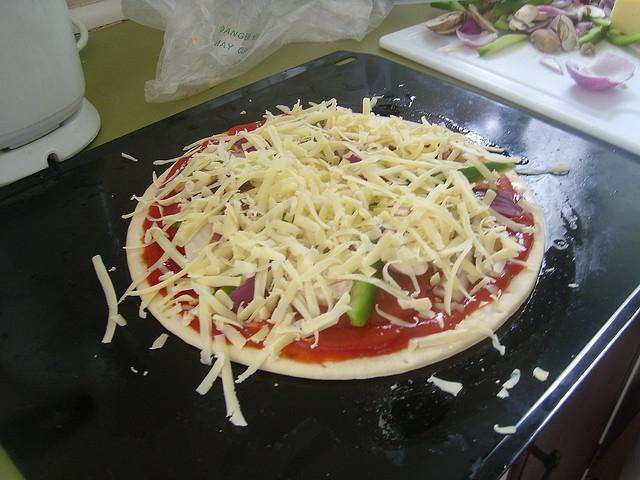bell pepper: (346, 240, 385, 327), (431, 161, 517, 189), (476, 34, 529, 56), (578, 24, 608, 50), (489, 0, 528, 18), (606, 28, 638, 46), (218, 273, 242, 296), (494, 12, 511, 30), (586, 16, 611, 27), (431, 2, 452, 10), (173, 221, 182, 230)
mushroom: (468, 4, 500, 36), (529, 28, 561, 52), (424, 11, 464, 30), (558, 15, 576, 52), (514, 4, 540, 29), (508, 16, 530, 32), (584, 4, 605, 17), (578, 5, 591, 22), (580, 42, 596, 55)
onion: (566, 52, 636, 90), (456, 28, 498, 48), (536, 6, 578, 22), (459, 16, 483, 34), (598, 0, 607, 10)
